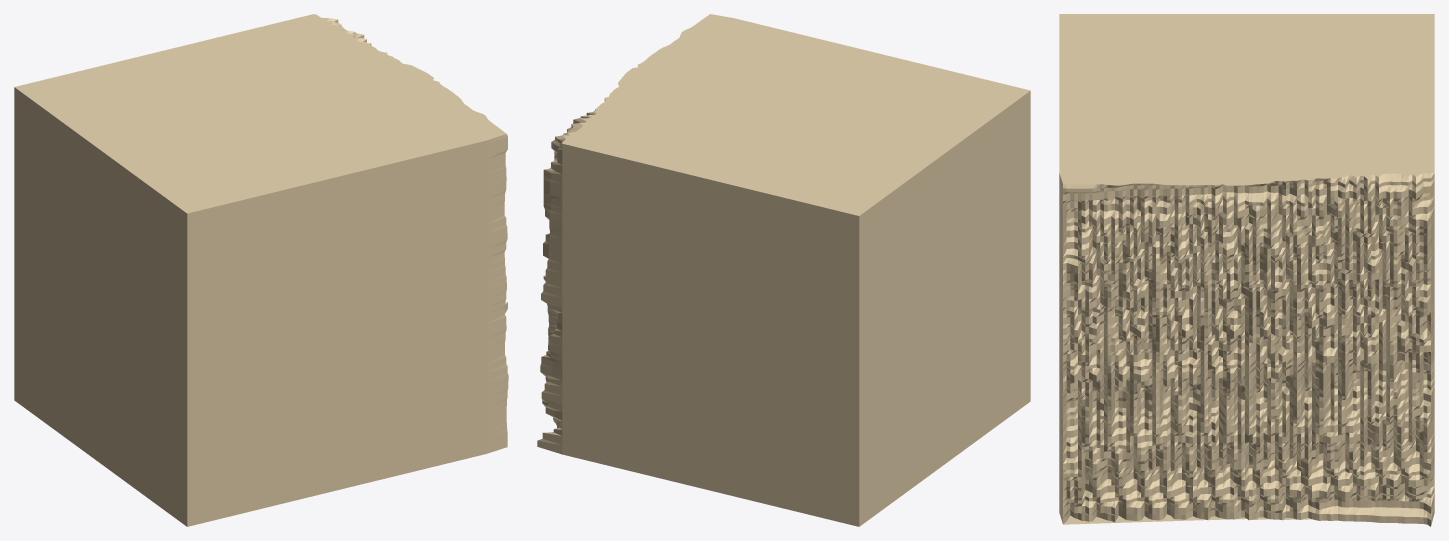
File: top4.png.obj
3 renders of one model, left to right at view 1: azimuth 30°, elevation 25°; view 2: azimuth 150°, elevation 25°; view 3: azimuth 270°, elevation 25°, orthographic. The views are drawn at different scales.
Visible parts, largest first — view 1: Cube; view 2: Cube; view 3: Cube.
Part boxes in pixels (x1,y1,x2,y2): Cube: (14, 14, 508, 526); Cube: (537, 14, 1030, 526); Cube: (1059, 14, 1434, 526).
Size of the model in its own units: 1.1 by 1 by 1.
